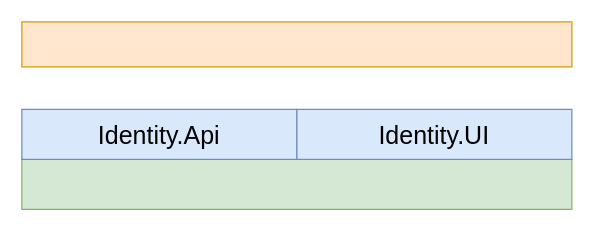
The diagram is 594 pixels wide and 231 high, and some of its shapes have lost their labels. Here are the shapes that lost their labels. From the top down, the centre of each, then its label:
At (296,44): "IDENTITY - MICROSERVICE".
At (296,183): "Identity".
